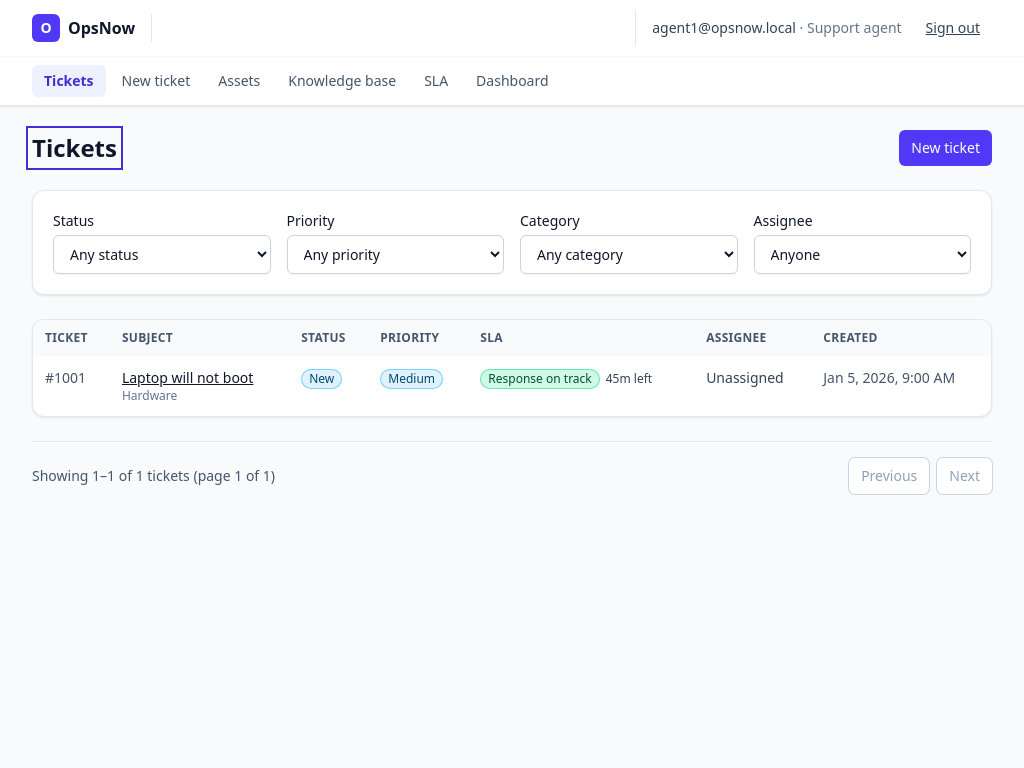
Test: SLA dashboard — staff › reaches the dashboard from the staff-only nav link
The image size is (1024, 768).
Click the link "SLA" at (436, 80), box [424,71,448,90]
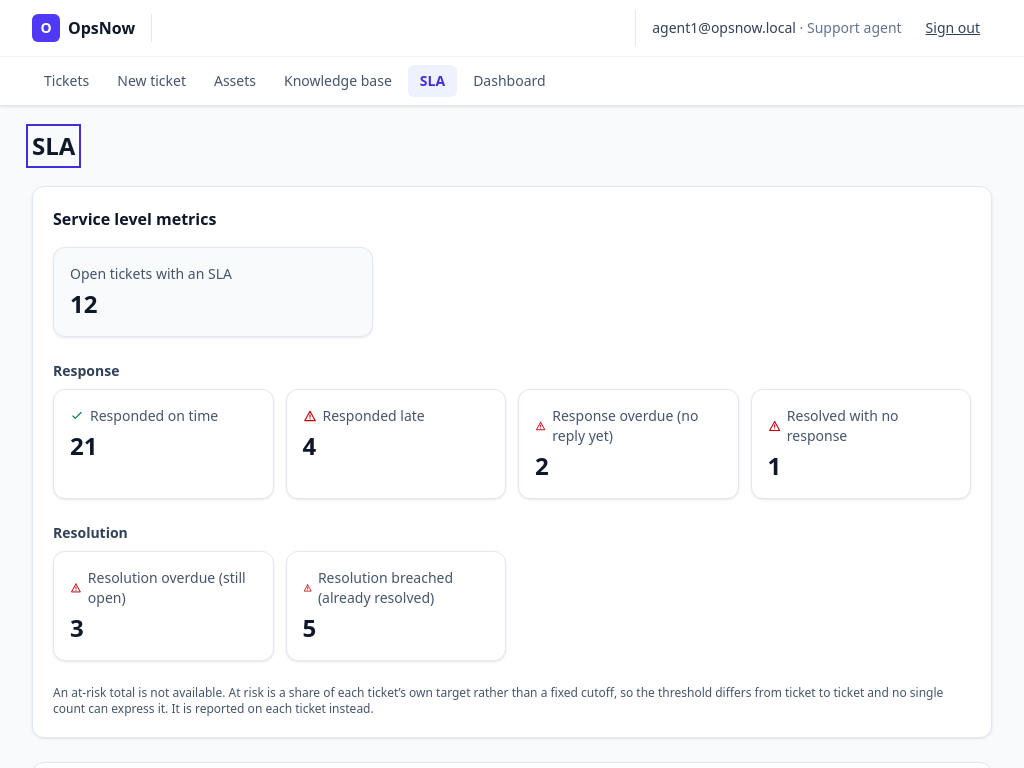
Expected: the heading "Service level metrics" is shown, [53,207,216,231]
